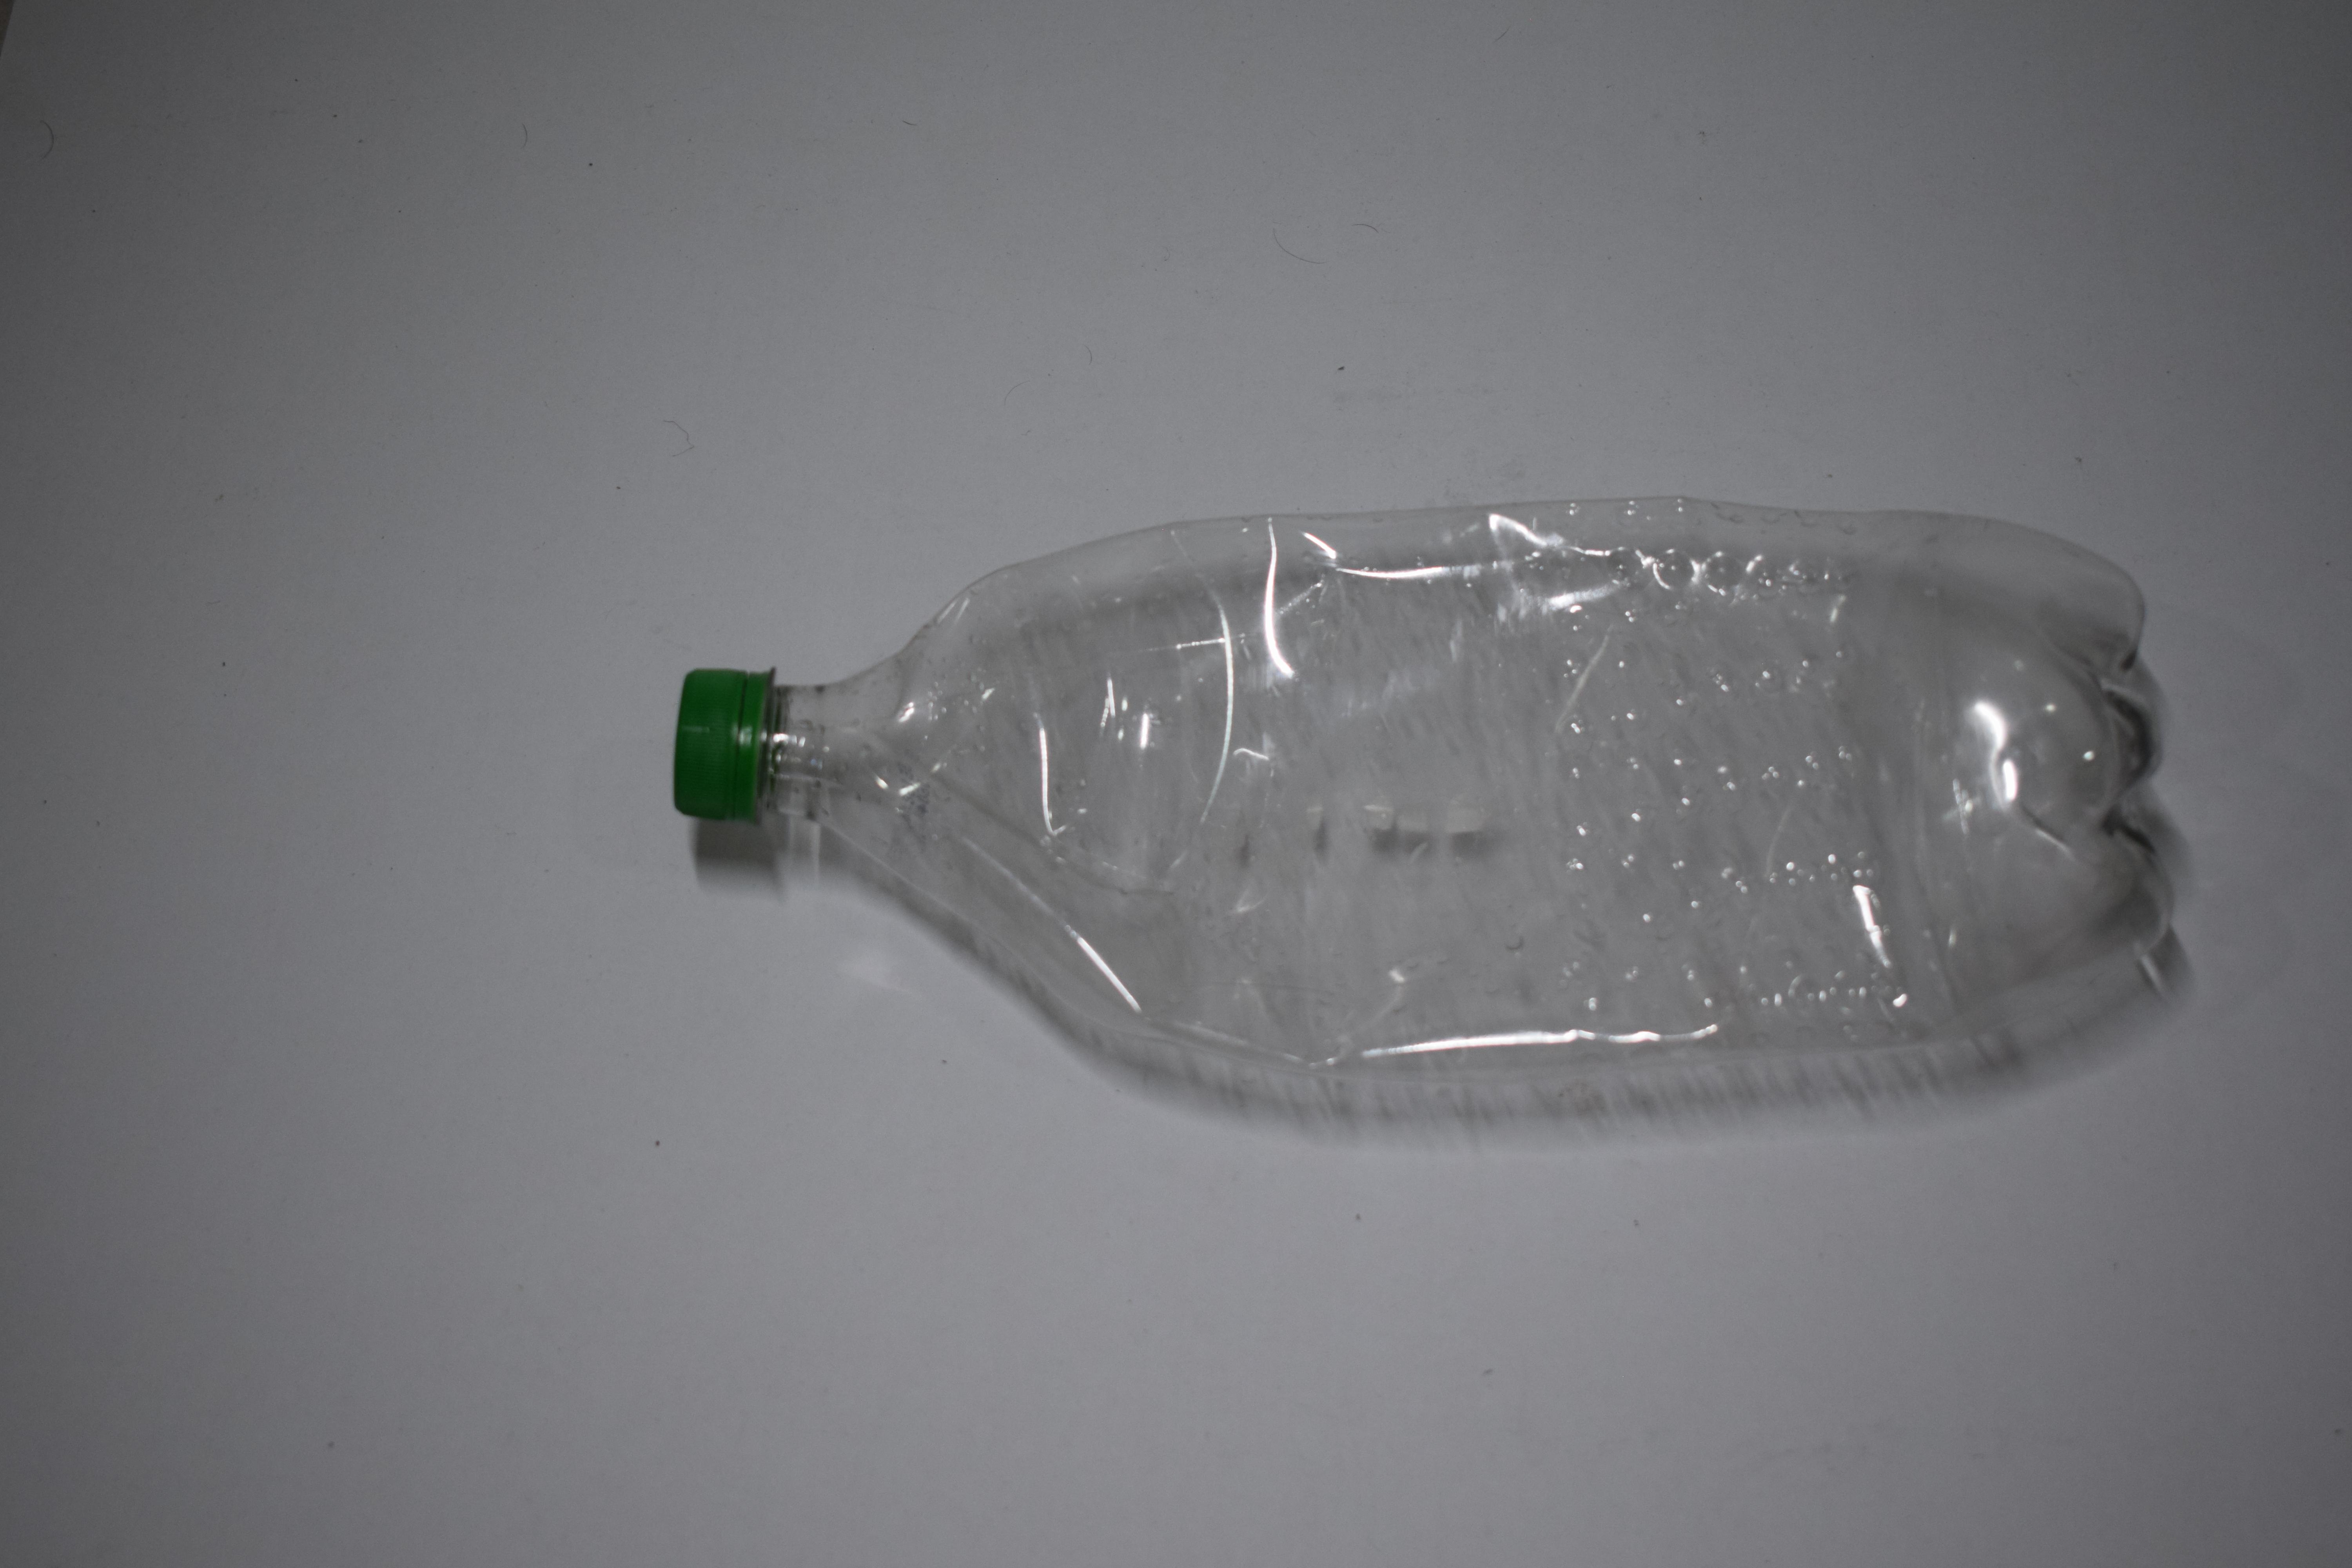bottle: (660, 0, 2167, 333)
